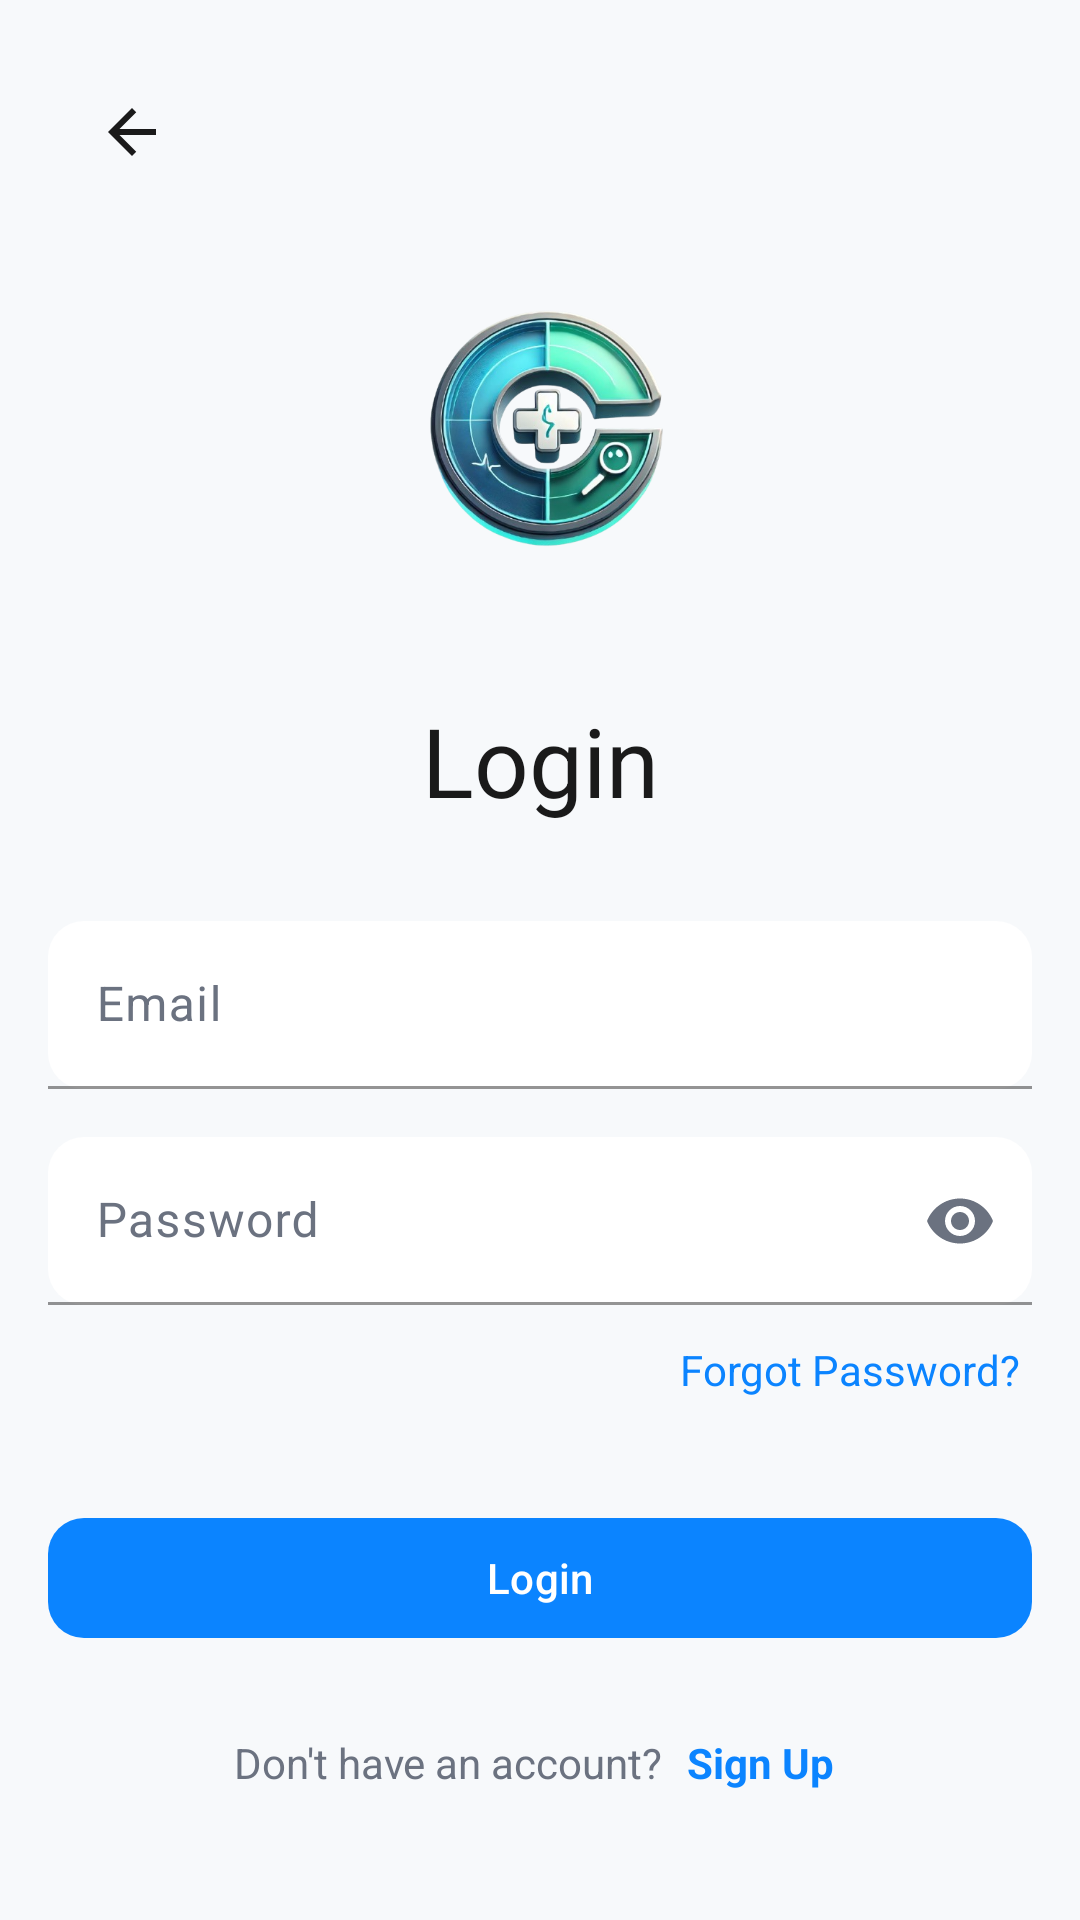

Locate icon controls on the screen. Image size 1080*1920, boxes as [x1=x1, y1=y1, x2=x2, y2=y2].
Back: [x1=108, y1=108, x2=156, y2=156]
